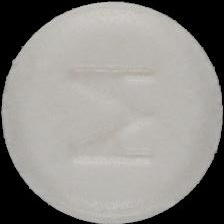0378-0218: (0, 0, 224, 224)
